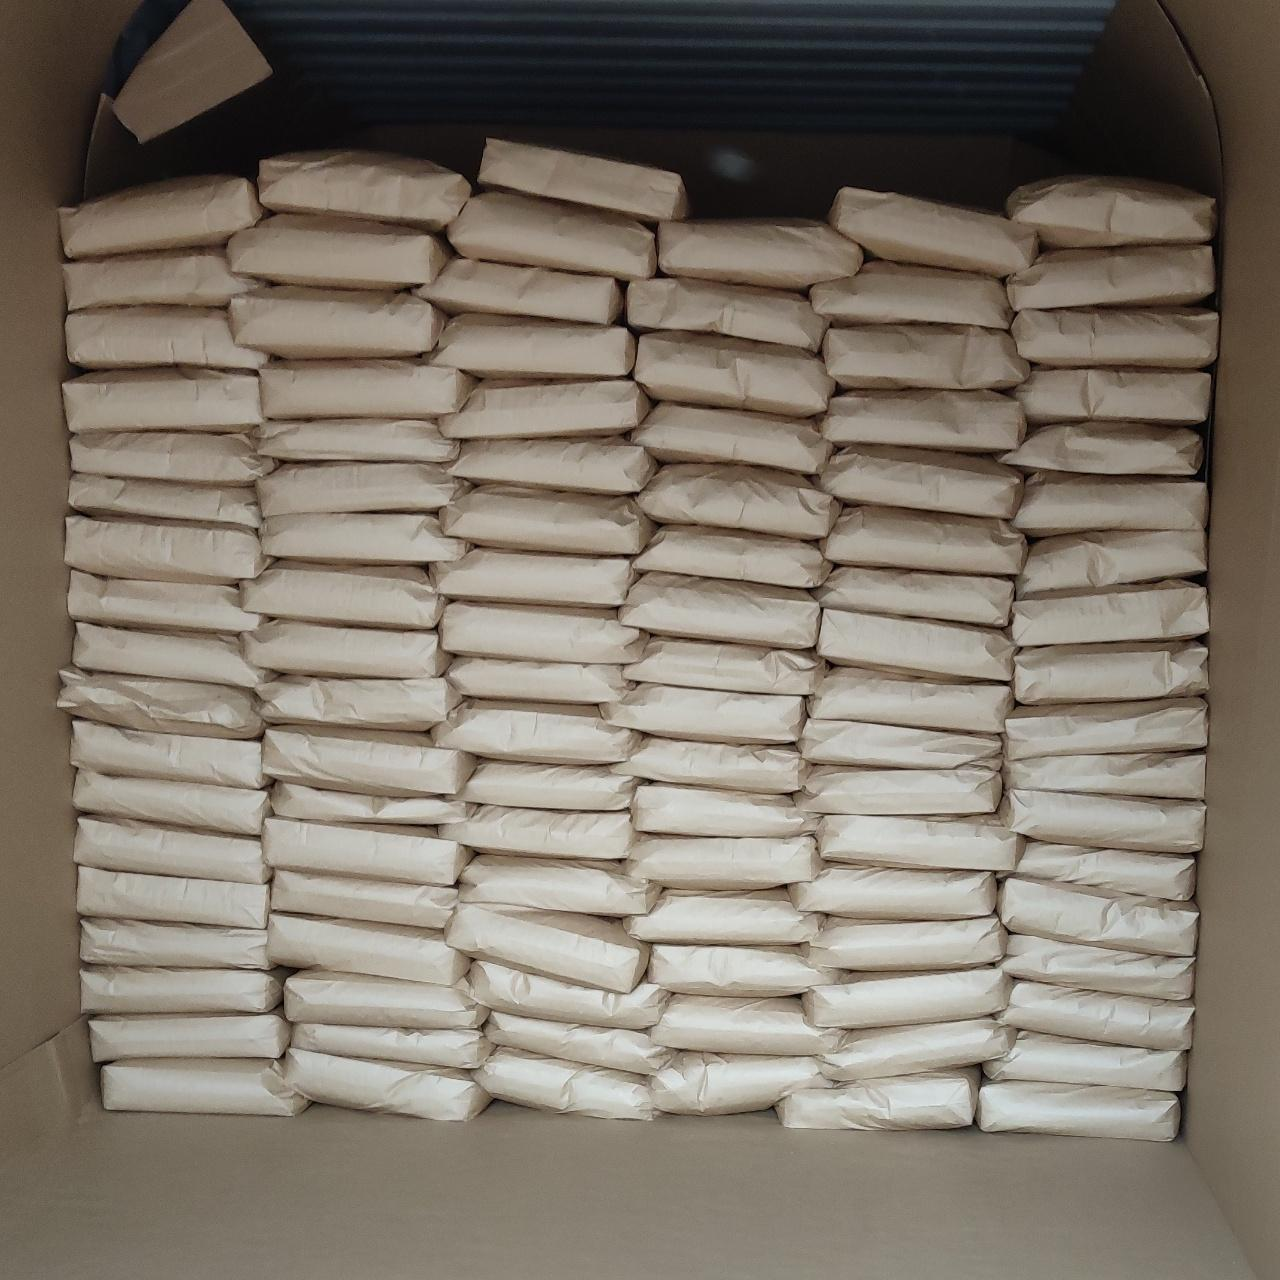sack: (829, 187, 1038, 277), (448, 193, 656, 279), (446, 904, 648, 992), (478, 138, 688, 222), (260, 151, 470, 232), (634, 331, 834, 416), (60, 175, 261, 258), (227, 215, 450, 289), (229, 286, 444, 359), (997, 877, 1198, 955), (619, 572, 819, 649), (282, 1046, 489, 1120), (1007, 175, 1216, 248), (820, 445, 1023, 519), (638, 464, 838, 539), (439, 485, 653, 555), (262, 725, 475, 795), (627, 277, 827, 351), (820, 506, 1027, 576), (631, 402, 832, 474), (816, 608, 1014, 681), (58, 667, 261, 738), (658, 220, 863, 290), (72, 621, 274, 692), (268, 913, 467, 985), (465, 960, 670, 1029), (262, 817, 469, 885), (431, 700, 650, 764), (65, 515, 270, 583), (241, 561, 442, 629), (415, 258, 622, 324), (1007, 246, 1214, 312), (810, 261, 1009, 329), (808, 667, 1013, 733), (439, 601, 650, 664), (70, 720, 265, 788), (999, 981, 1193, 1049), (427, 314, 633, 378), (474, 1047, 662, 1117), (72, 768, 268, 835), (62, 367, 263, 432), (824, 324, 1028, 388), (1000, 789, 1204, 853), (75, 816, 269, 883), (1017, 530, 1205, 599), (63, 247, 262, 312), (1010, 581, 1208, 646), (802, 967, 1012, 1028), (820, 391, 1026, 453), (1012, 471, 1207, 536), (1006, 697, 1207, 760), (260, 359, 471, 419), (1011, 307, 1217, 368), (1011, 640, 1207, 704), (439, 380, 650, 439), (650, 995, 854, 1056), (66, 307, 266, 369), (632, 526, 831, 588), (459, 855, 661, 916), (983, 1031, 1187, 1091), (819, 1018, 1016, 1080), (813, 567, 1013, 628), (601, 683, 804, 743), (815, 815, 1025, 873), (77, 866, 267, 930), (976, 1081, 1180, 1140), (485, 1011, 673, 1075), (242, 620, 448, 678), (68, 571, 260, 633), (1000, 937, 1192, 999), (432, 548, 633, 607), (449, 437, 657, 494), (284, 971, 487, 1029), (102, 1059, 307, 1116), (256, 463, 467, 518), (624, 637, 823, 695), (650, 1051, 829, 1115), (625, 890, 833, 945), (800, 916, 1007, 971), (790, 865, 996, 920), (439, 805, 643, 860), (777, 1072, 977, 1128), (257, 676, 460, 731), (1015, 368, 1211, 424), (272, 870, 457, 929), (69, 431, 274, 484), (70, 473, 260, 529), (261, 513, 469, 564), (797, 718, 1001, 770), (1002, 422, 1202, 475), (617, 737, 804, 793), (1014, 842, 1194, 900), (624, 836, 821, 888), (630, 784, 818, 838), (796, 765, 1002, 814), (80, 918, 274, 969), (291, 1022, 495, 1070), (648, 944, 839, 995), (91, 1012, 289, 1061), (82, 967, 286, 1014), (1002, 753, 1204, 797), (458, 762, 638, 810), (444, 657, 633, 702), (270, 783, 473, 824), (259, 420, 458, 461)
